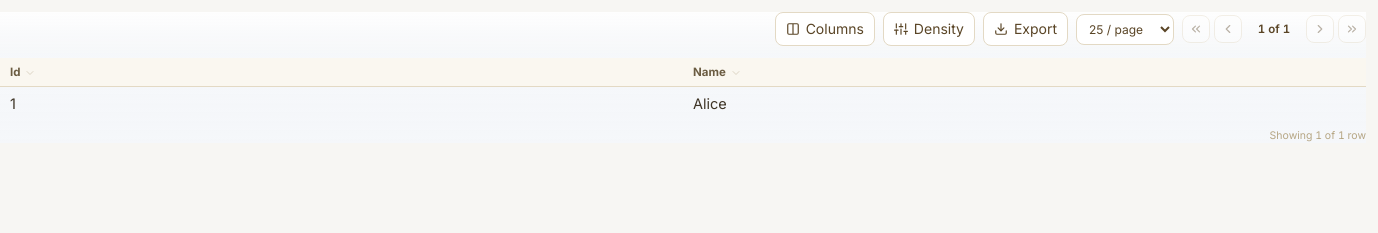
AdvancedDataTable · Reset layout (BUG-009) › Reset makes every column visible, even one auto-hidden via initialHiddenColumns
Expected: the number of cells is 2, [0,87,683,120]; [683,87,1366,120]
Click the button "Columns": [825, 29] box [775,12,875,46]
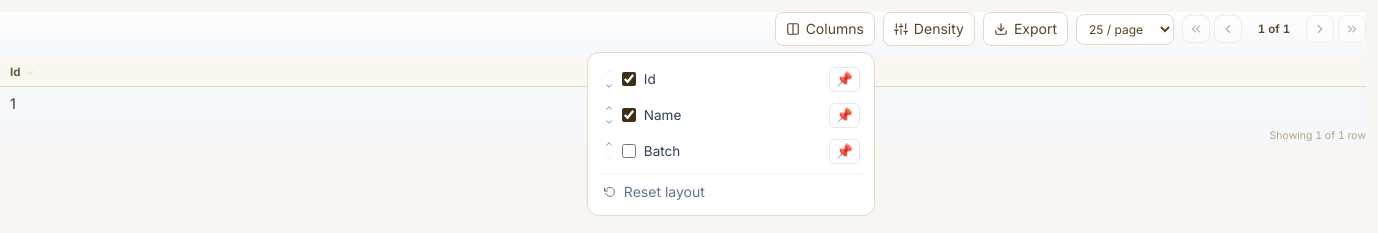
Click the button "Reset layout": [664, 192] box [596,173,866,207]
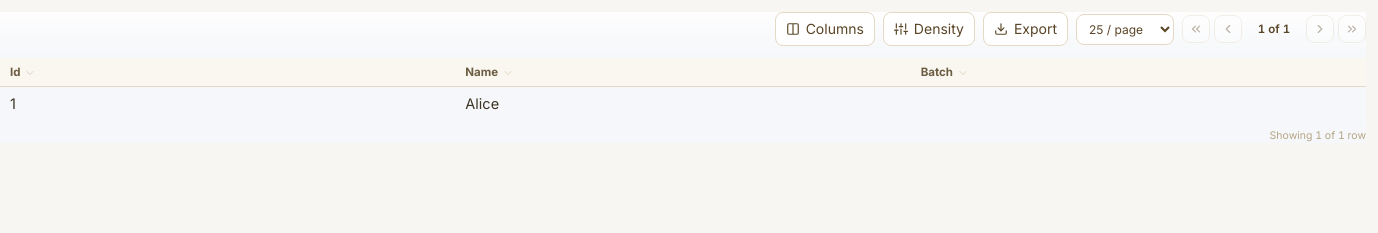
Expected: the number of cells is 3, [0,87,455,120]; [455,87,911,120]; [911,87,1366,120]
